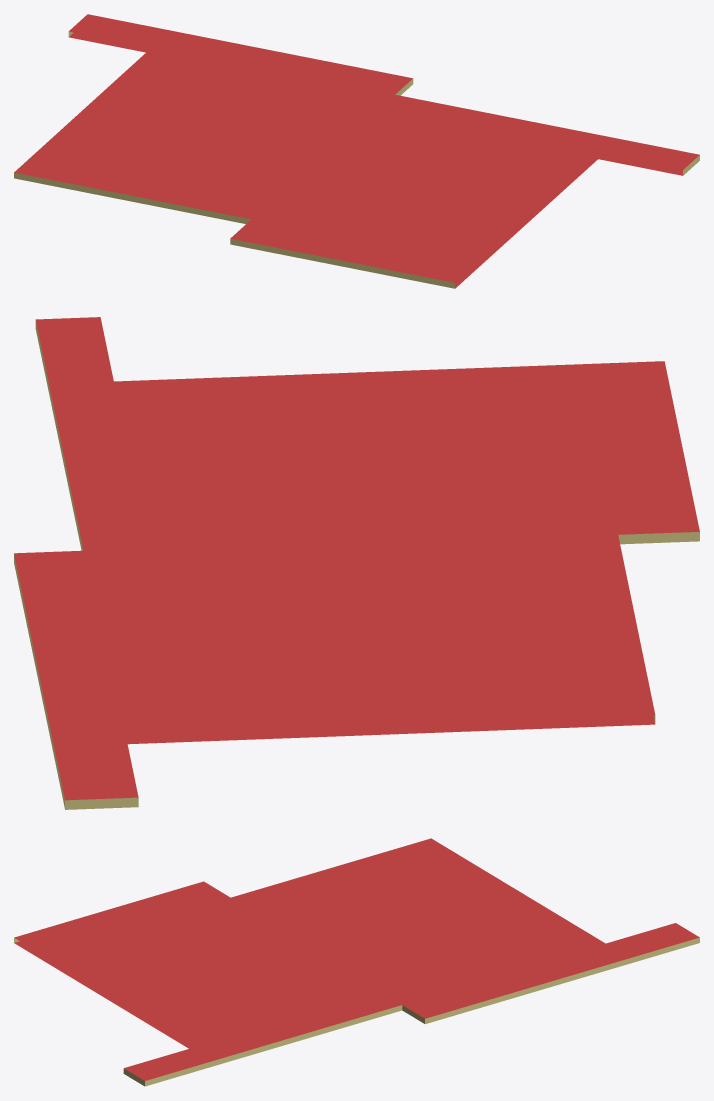
3 renders of one model, top to bottom at view 1: azimuth 30°, elevation 25°; view 2: azimuth 150°, elevation 25°; view 3: azimuth 270°, elevation 25°, orthographic. The views are drawn at different scales.
Bounding box in the file's own units: 9.48 × 11.32 × 0.1.
